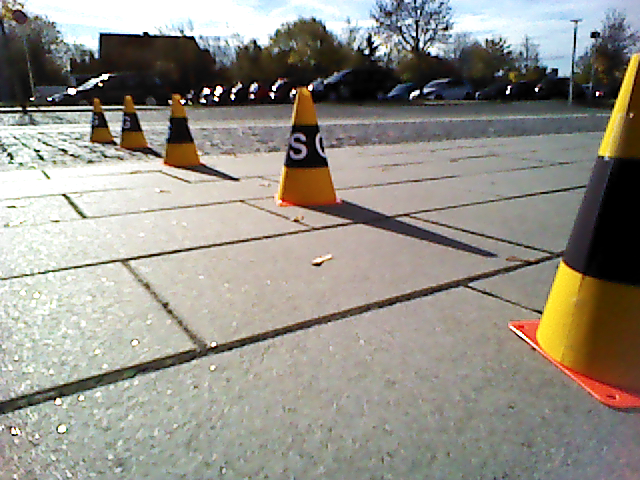yellowcone: (539, 52, 640, 389), (279, 88, 334, 203), (165, 93, 199, 165), (120, 95, 151, 147), (90, 100, 114, 142)
